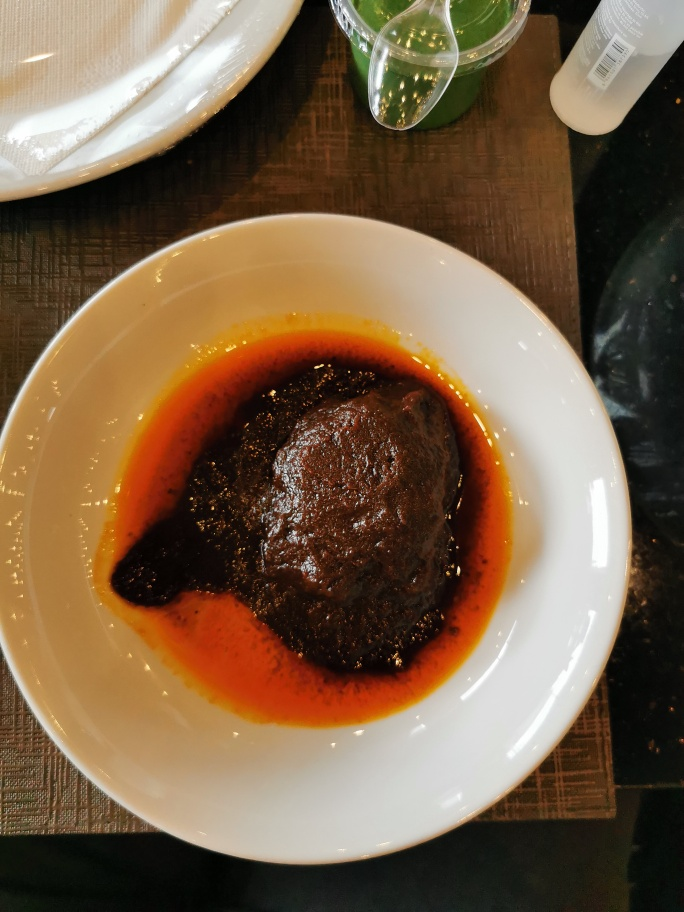rendang: (205, 374, 451, 660)
